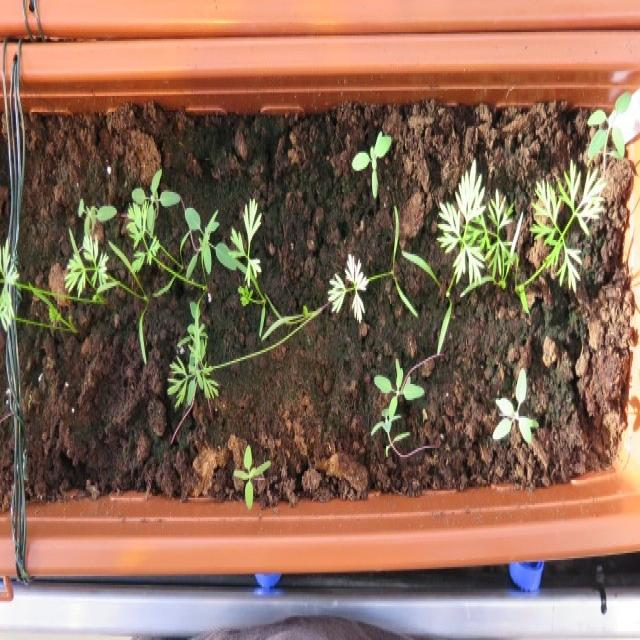weed: (487, 359, 543, 446), (223, 436, 274, 514)
